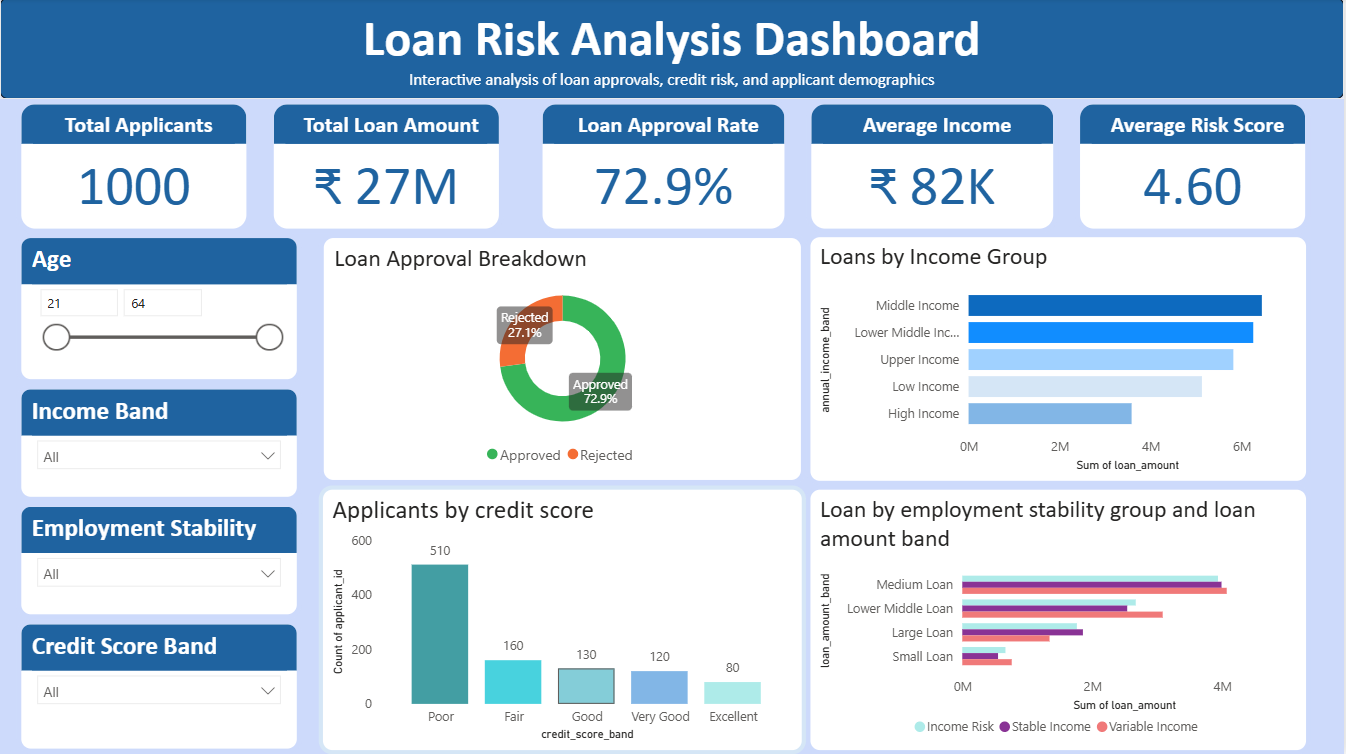

What the dashboard file says about the page in this screenshot:
{"tool":"powerbi","page":{"name":"Page 1","canvas":[1280,720],"ordinal":0},"visuals":[{"type":"textbox","box":[0,0,1280,96],"z":0},{"type":"card","title":"Total Applicants","fields":{"Values":["Count(loan_risk_model_final.applicant_id)"]},"box":[16,96,224,128],"z":1000},{"type":"card","title":"Total Loan Amount","fields":{"Values":["Sum(loan_risk_model_final.loan_amount)"]},"box":[256,96,224,128],"z":2000},{"type":"card","title":"Average Income","fields":{"Values":["Avg(loan_risk_model_final.annual_income)"]},"box":[768,96,240,128],"z":3000},{"type":"card","title":"Loan Approval Rate","fields":{"Values":["Avg(loan_risk_model_final.loan_approved)"]},"box":[512,96,240,128],"z":4000},{"type":"slicer","title":"Age","fields":{"Values":["loan_risk_model_final.age"]},"box":[16,224,272,144],"z":5000},{"type":"slicer","title":"Income Band","fields":{"Values":["loan_risk_model_final.annual_income_band"]},"box":[16,368,272,112],"z":6000},{"type":"slicer","title":"Employment Stability","fields":{"Values":["loan_risk_model_final.employment_stability_group"]},"box":[16,480,272,112],"z":7000},{"type":"donutChart","title":"Loan Approval Breakdown","fields":{"Y":["CountNonNull(loan_risk_model_final.Loan_Status)"],"Category":["loan_risk_model_final.Loan_Status"]},"box":[304,224,464,240],"z":8000},{"type":"barChart","title":"Loans by Income Group","fields":{"Category":["loan_risk_model_final.annual_income_band"],"Y":["Sum(loan_risk_model_final.loan_amount)"]},"box":[768,224,480,240],"z":9000},{"type":"columnChart","title":"Applicants by credit score","fields":{"Y":["Count(loan_risk_model_final.applicant_id)"],"Category":["loan_risk_model_final.credit_score_band"]},"box":[304,464,464,256],"z":10000},{"type":"clusteredBarChart","title":"Loan by employment stability group and loan amount band","fields":{"Category":["loan_risk_model_final.loan_amount_band"],"Y":["Sum(loan_risk_model_final.loan_amount)"],"Series":["loan_risk_model_final.employment_stability_group"]},"box":[768,464,480,256],"z":11000},{"type":"slicer","title":"Credit Score Band","fields":{"Values":["loan_risk_model_final.credit_score_band"]},"box":[16,592,272,128],"z":12000},{"type":"card","title":"Average Risk Score","fields":{"Values":["Avg(loan_risk_model_final.total_risk_score)"]},"box":[1024,96,224,128],"z":13000}]}

Visuals, with their boxes in screenshot pixels (x1, y1, x2, y2), scaled from the page's 1280x720 canvas onto the 1346x754 screenshot:
textbox: detection(0, 0, 1345, 101)
"Total Applicants" card: detection(17, 101, 252, 235)
"Total Loan Amount" card: detection(269, 101, 505, 235)
"Average Income" card: detection(808, 101, 1060, 235)
"Loan Approval Rate" card: detection(538, 101, 791, 235)
"Age" slicer: detection(17, 235, 303, 385)
"Income Band" slicer: detection(17, 385, 303, 503)
"Employment Stability" slicer: detection(17, 503, 303, 620)
"Loan Approval Breakdown" donutChart: detection(320, 235, 808, 486)
"Loans by Income Group" barChart: detection(808, 235, 1312, 486)
"Applicants by credit score" columnChart: detection(320, 486, 808, 753)
"Loan by employment stability group and loan amount band" clusteredBarChart: detection(808, 486, 1312, 753)
"Credit Score Band" slicer: detection(17, 620, 303, 753)
"Average Risk Score" card: detection(1077, 101, 1312, 235)
